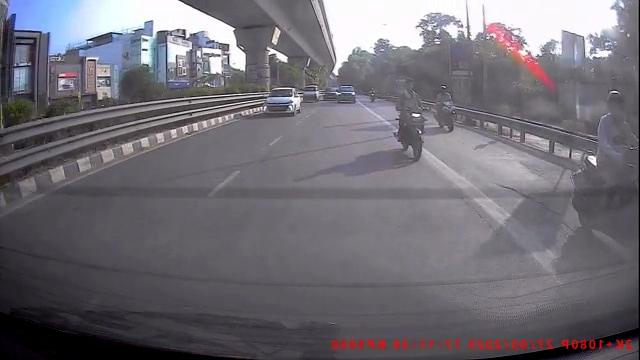motorcycle_with_helmet: (570, 91, 639, 256), (433, 83, 457, 133)
motorcycle_without_helmet: (393, 76, 427, 163)
